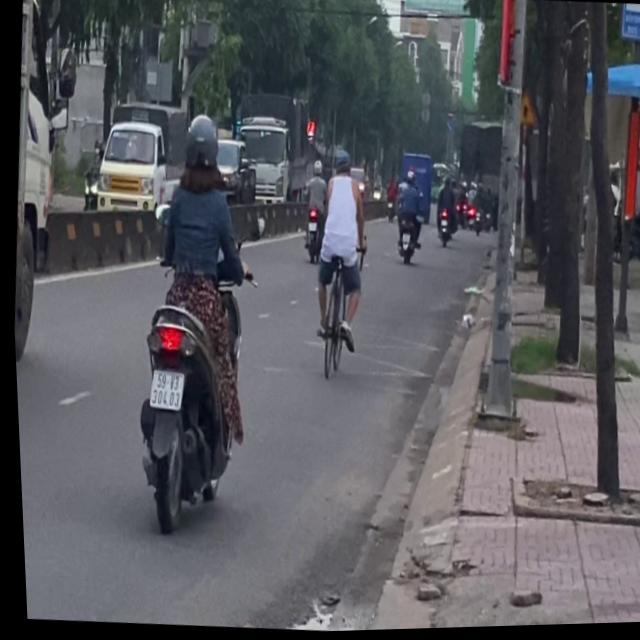helmet: (174, 110, 221, 190)
licenseplate: (113, 104, 266, 532)
nohelmet: (144, 369, 179, 408)
